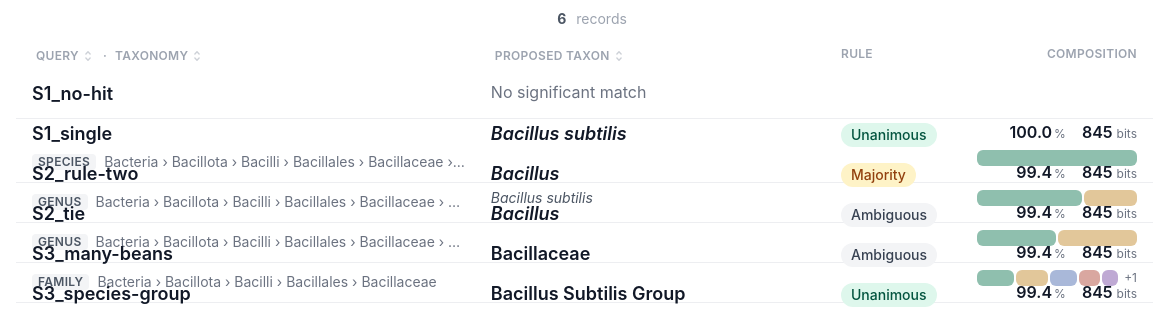
Test: Table › sorting › Proposed taxon sorts by the taxon; records without one go last
Click the button with aria-label "Sort by Proposed taxon" at coordinates (560, 56), box x1=491 y1=46 x2=630 y2=66
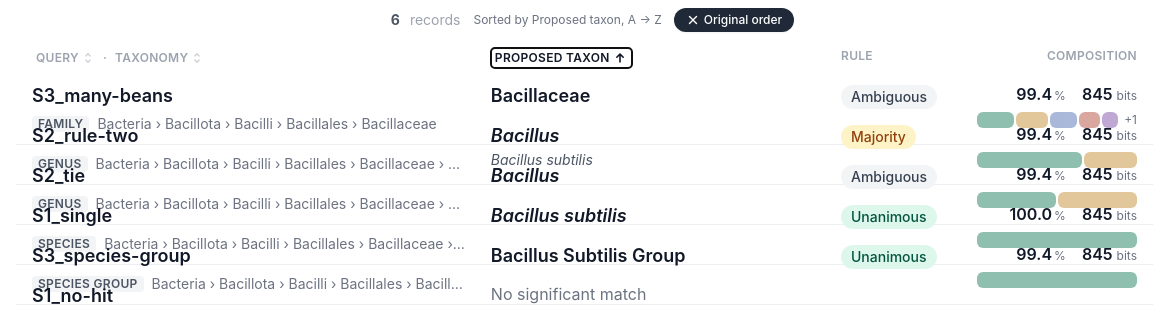
Check: the button "S1_no-hit" is shown, box x1=32 y1=282 x2=113 y2=310
